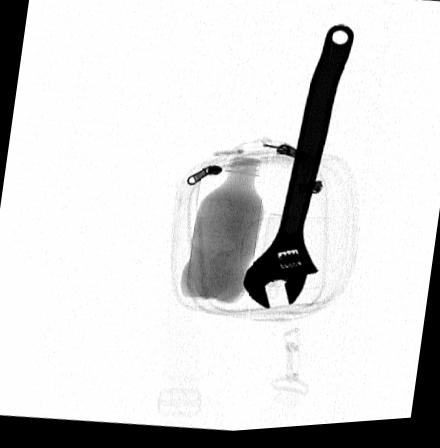Wrench: (238, 25, 356, 314)
